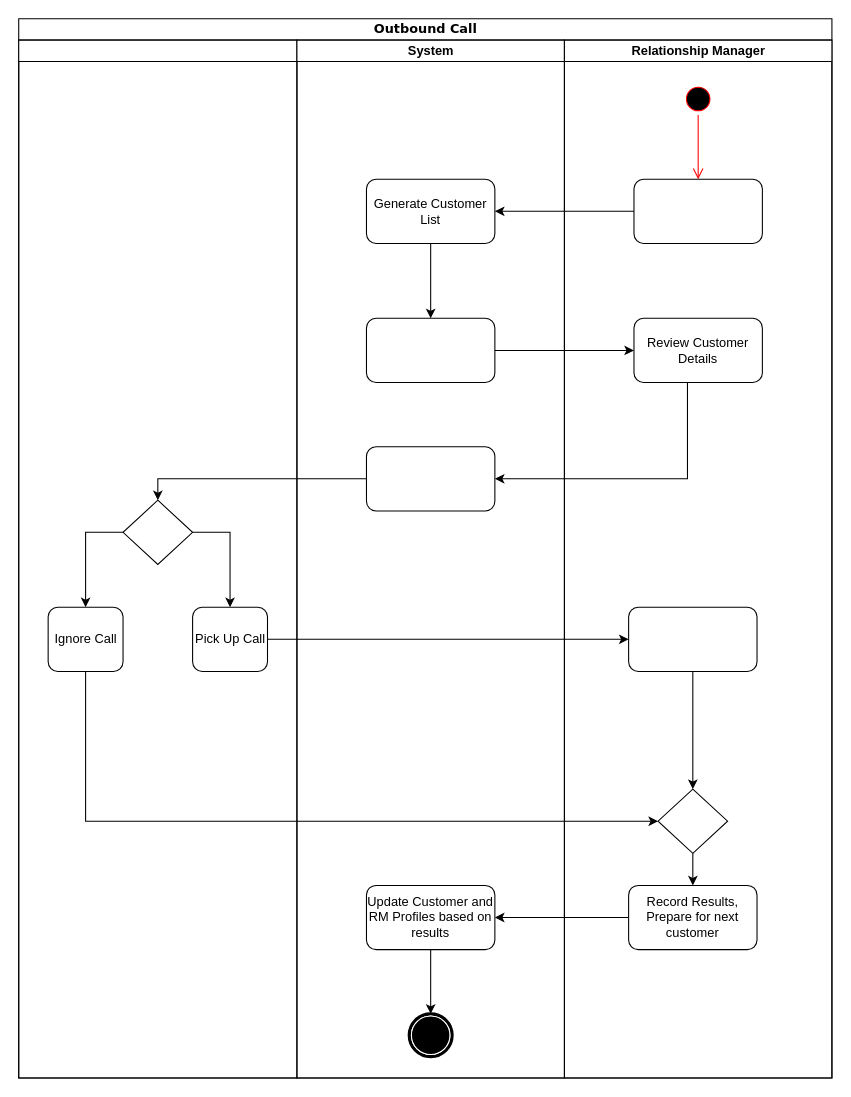
This 851x1097 diagram has some shape labels left out. The box of each missing label's shape, as (x1, y1, x2, y2) in pixels:
Automatically Dial Number: (365, 446, 495, 511)
Create Target List for RM: (365, 317, 495, 383)
Customer: (18, 39, 297, 1078)
Fill out RM Profile: (633, 178, 762, 243)
Give Customer Pitch/Propose Product based on target list: (628, 606, 757, 671)
